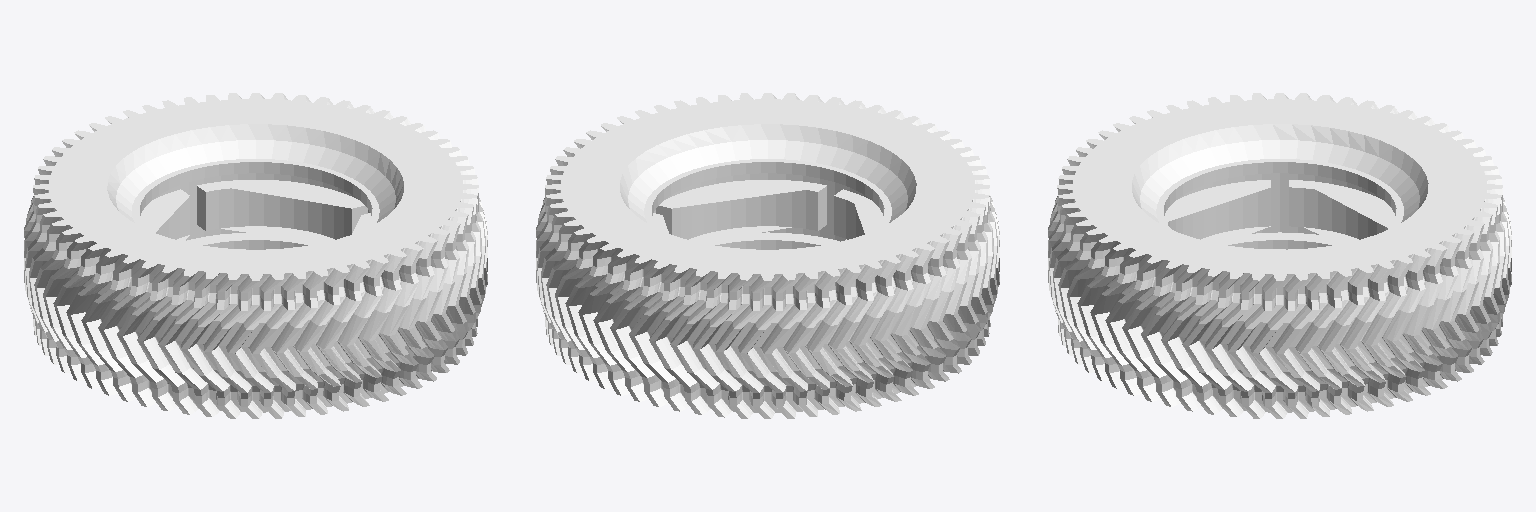
Rendered from Tyre.obj.
3 renders of one model, left to right at view 1: azimuth 30°, elevation 25°; view 2: azimuth 150°, elevation 25°; view 3: azimuth 270°, elevation 25°, orthographic.
Parts seen in each view (by area): view 1: Mesh1 Model; view 2: Mesh1 Model; view 3: Mesh1 Model.
Boxes of the visible parts, <box> form: Mesh1 Model: <box>24,93,487,418</box>; Mesh1 Model: <box>536,93,999,418</box>; Mesh1 Model: <box>1048,93,1511,418</box>.
Size of the model in its own units: 51.66 by 17 by 51.66.